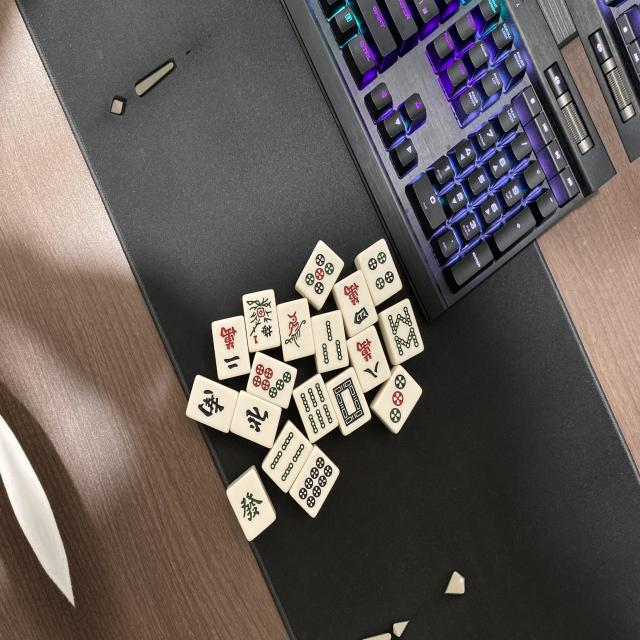bai: (326, 369, 372, 435)
f1: (243, 290, 280, 352)
fa: (228, 469, 277, 541)
m2: (212, 319, 249, 381)
m4: (335, 273, 379, 337)
m8: (346, 326, 392, 389)
north: (229, 394, 281, 447)
s1: (278, 300, 313, 362)
s3: (312, 315, 348, 374)
s4: (261, 425, 316, 493)
s6: (294, 376, 340, 441)
s8: (380, 300, 424, 362)
south: (188, 379, 239, 433)
t3: (372, 366, 423, 434)
t4: (358, 241, 404, 305)
t5: (296, 242, 344, 309)
t7: (250, 357, 298, 405)
t8: (290, 449, 340, 519)
